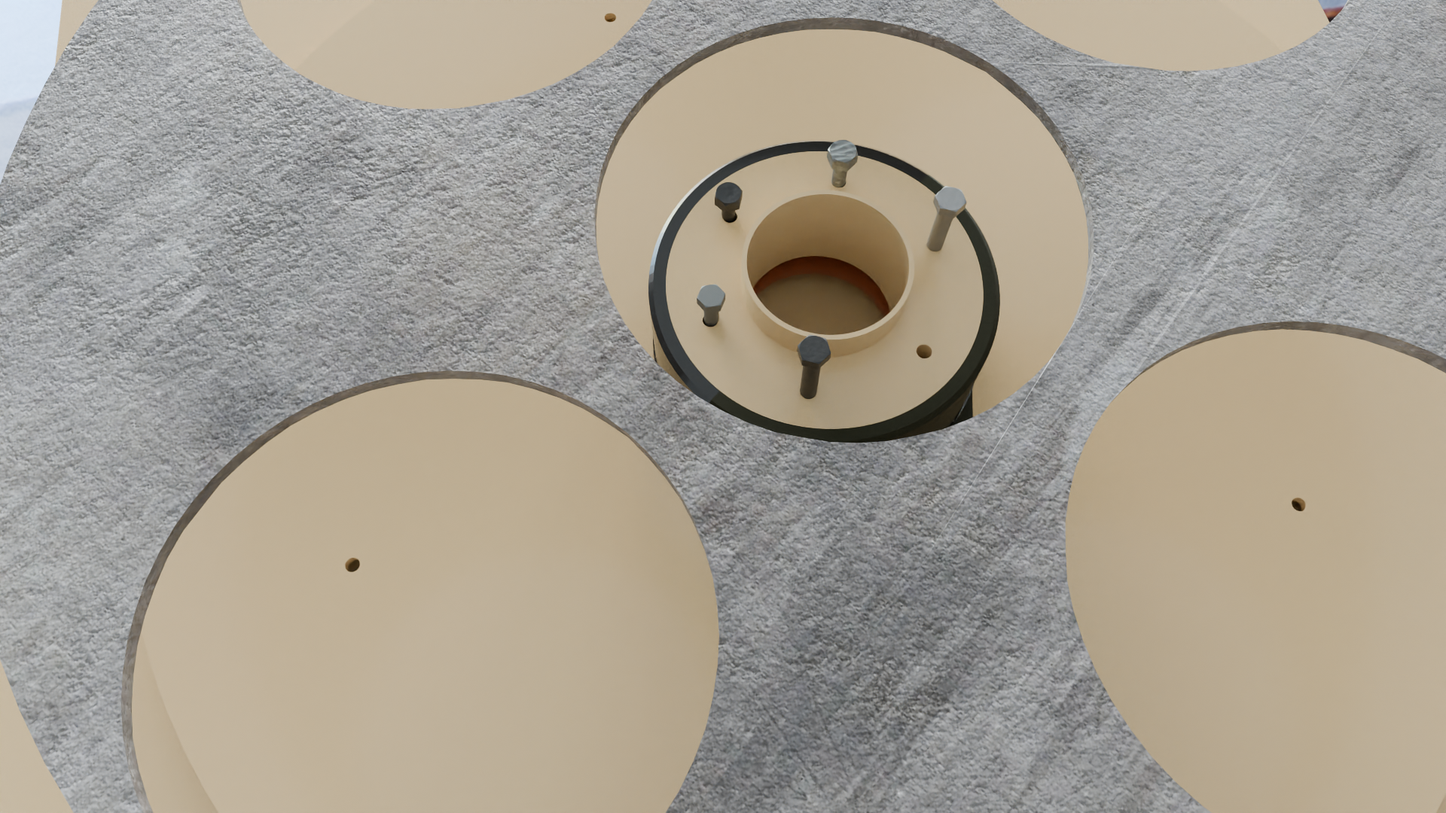bolt: (798, 334, 831, 364), (935, 186, 966, 212), (828, 140, 858, 165), (715, 182, 743, 206), (697, 284, 725, 308)
